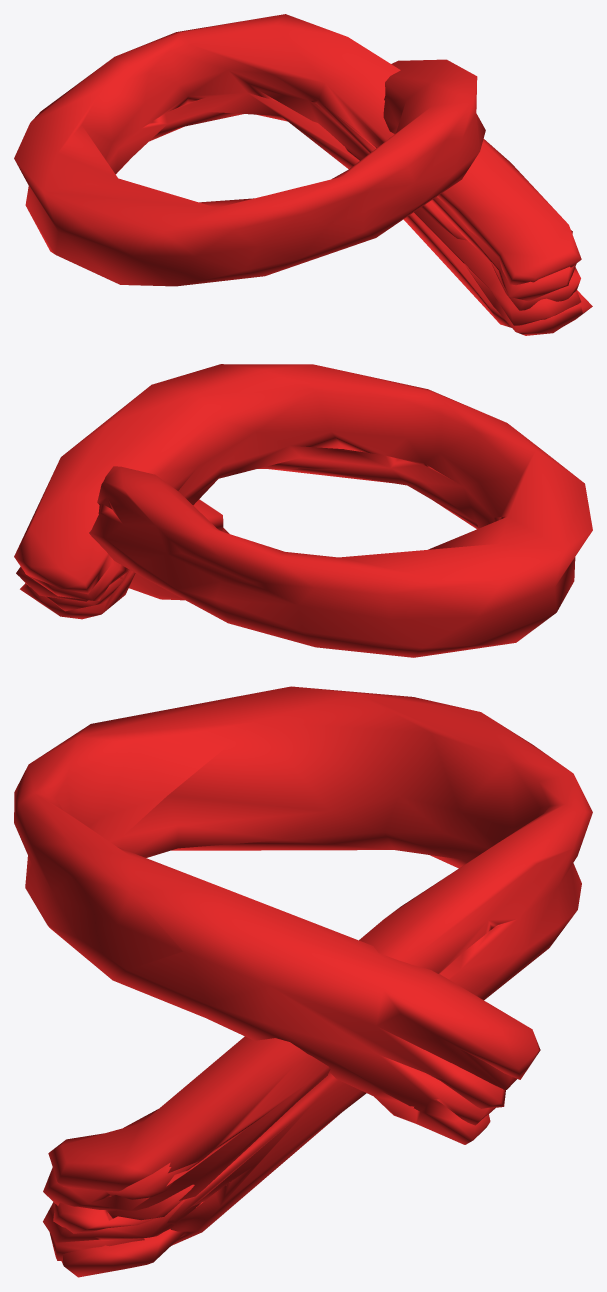
File: scarf.fbx
The picture shows the model from 3 angles, top to bottom: view 1: azimuth 30°, elevation 25°; view 2: azimuth 150°, elevation 25°; view 3: azimuth 270°, elevation 25°; orthographic projection. The views are drawn at different scales.
Visible parts, largest first — view 1: Plane; view 2: Plane; view 3: Plane.
Part boxes in pixels (box(x1,y1,x2,y2)): Plane: box(14, 14, 592, 335); Plane: box(14, 364, 592, 657); Plane: box(14, 686, 592, 1277).
Size of the model in its own units: 935 by 443 by 680.
